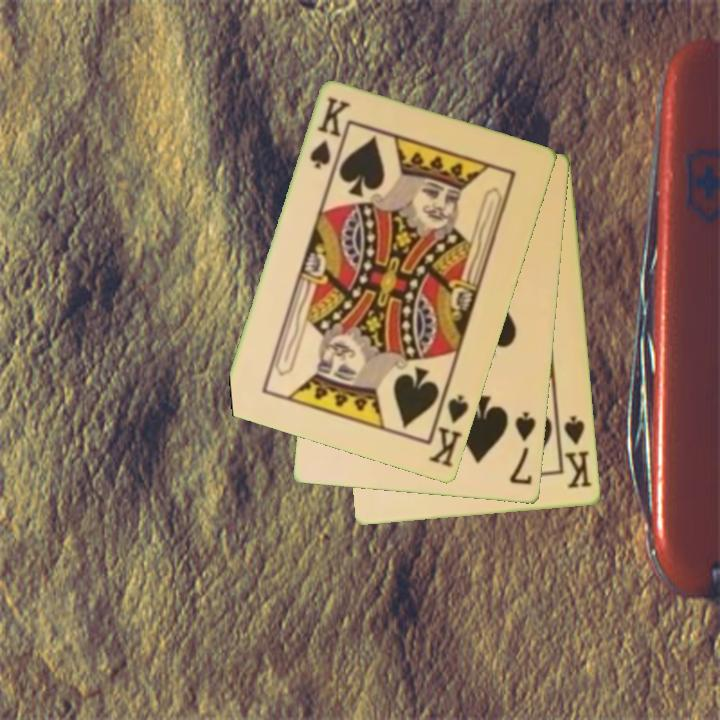7s: (507, 408, 539, 488)
Ks: (306, 94, 354, 173), (425, 391, 472, 471), (561, 412, 595, 491)
